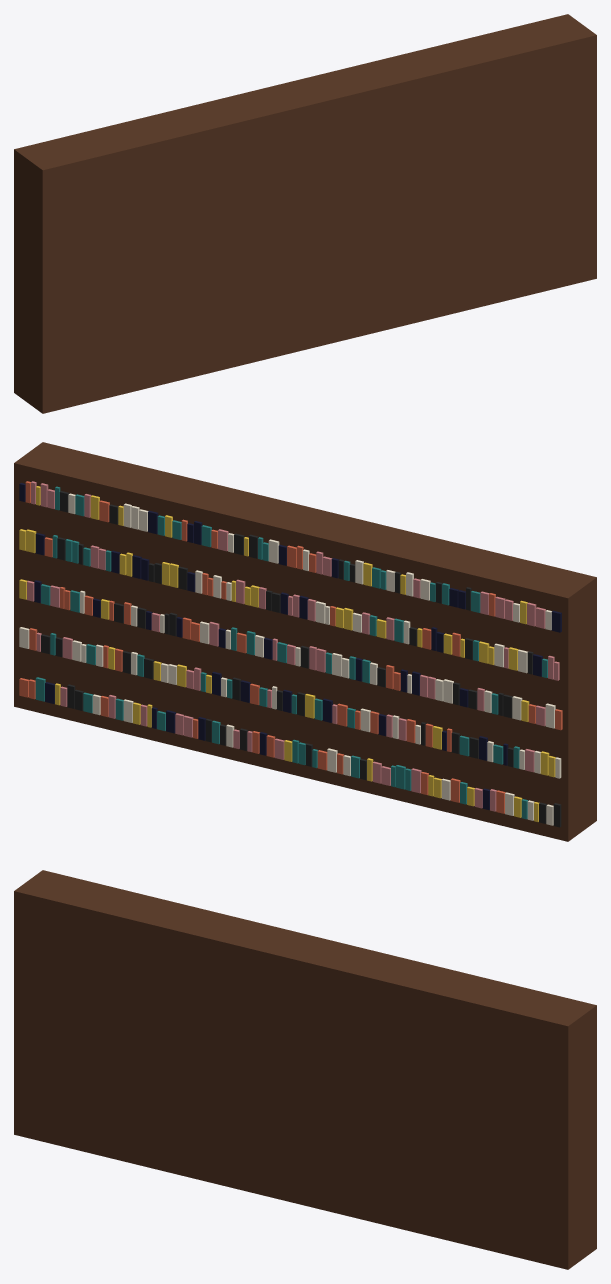
File: new_releases.glb
The picture shows the model from 3 angles, top to bottom: view 1: azimuth 30°, elevation 25°; view 2: azimuth 150°, elevation 25°; view 3: azimuth 330°, elevation 25°; orthographic projection.
Visible parts, largest first — view 1: Box1; view 2: Box1; view 3: Box1.
Part boxes in pixels (x1,y1,x2,y2): Box1: (14,14,596,413); Box1: (14,442,596,841); Box1: (14,870,596,1269).
Size of the model in its own units: 5 by 2.1 by 0.475.
